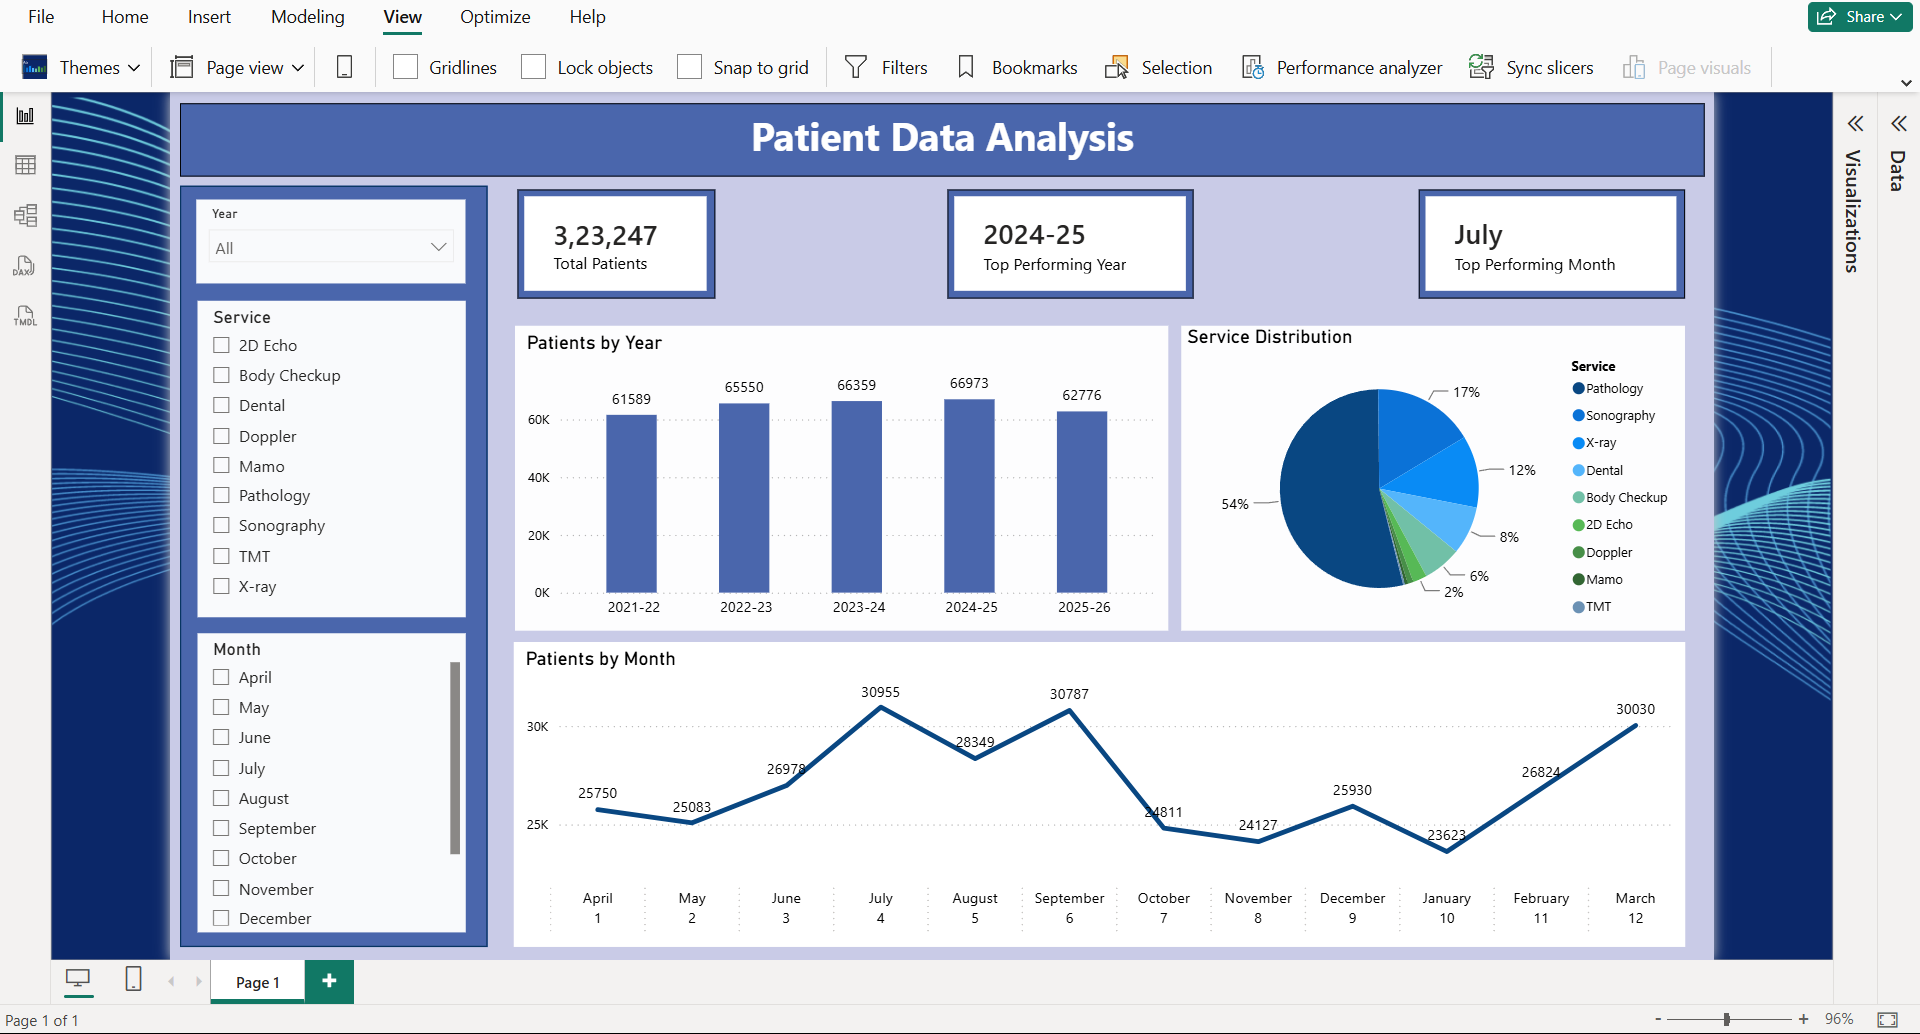

Layout of this report page (visuals, bound fields, positions):
{"tool":"powerbi","page":{"name":"Page 1","canvas":[1280,720],"ordinal":0},"visuals":[{"type":"shape","box":[8.3,77.7,254.9,631.1],"z":0},{"type":"cardVisual","fields":{"Data":["Sum(master.Count)"]},"box":[288.1,80.8,163.7,90.2],"z":1000},{"type":"slicer","fields":{"Values":["master.Year "]},"box":[22,89.2,223.5,69.3],"z":2000},{"type":"slicer","fields":{"Values":["master.Service "]},"box":[23.1,173.1,222.5,262.3],"z":3000},{"type":"textbox","box":[8.3,9.3,1264.3,61.1],"z":4000},{"type":"slicer","fields":{"Values":["master.Month"]},"box":[23.1,449.1,222.5,247.6],"z":5000},{"type":"cardVisual","fields":{"Data":["Min(master.Year )"]},"box":[644.6,80.8,204.1,90.2],"z":6000},{"type":"cardVisual","fields":{"Data":["Min(master.Month)"]},"box":[1035.2,80.8,220.7,90.2],"z":7000},{"type":"clusteredColumnChart","title":"Yearly ","fields":{"Category":["master.Year "],"Y":["Sum(master.Count)"]},"box":[286,193.8,542,252.9],"z":8000},{"type":"pieChart","title":"Service Distribution","fields":{"Category":["master.Service "],"Y":["Sum(master.Count)"]},"box":[838.3,193.8,417.6,252.9],"z":9000},{"type":"lineChart","title":"Monthly","fields":{"Category":["master.Month Num","master.Month"],"Y":["Sum(master.Count)"]},"box":[285,456,971,252.9],"z":10000}]}

Visuals, with their boxes on the page's 1280x720 design canvas (x1, y1, x2, y2). These are canvas units, not pixel positions in the 1920x1034 screenshot, which may show the page scaled, cropped or inside an application window:
shape: <box>8,78,263,709</box>
cardVisual - Sum(master.Count): <box>288,81,452,171</box>
slicer - master.Year : <box>22,89,246,158</box>
slicer - master.Service : <box>23,173,246,435</box>
textbox: <box>8,9,1273,70</box>
slicer - master.Month: <box>23,449,246,697</box>
cardVisual - Min(master.Year ): <box>645,81,849,171</box>
cardVisual - Min(master.Month): <box>1035,81,1256,171</box>
"Yearly " clusteredColumnChart: <box>286,194,828,447</box>
"Service Distribution" pieChart: <box>838,194,1256,447</box>
"Monthly" lineChart: <box>285,456,1256,709</box>
